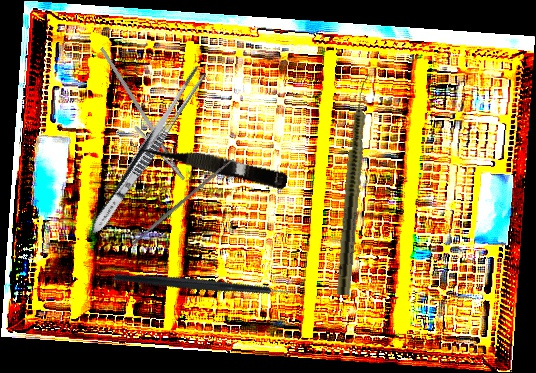Chopper: (112, 208, 304, 355)
Dressing Forceps: (86, 63, 209, 239)
Handpiece: (335, 73, 373, 296)
Micro Scissor: (132, 135, 290, 191)
Needle Holder: (75, 46, 201, 189)
Scalpel Handle: (129, 156, 236, 247)
